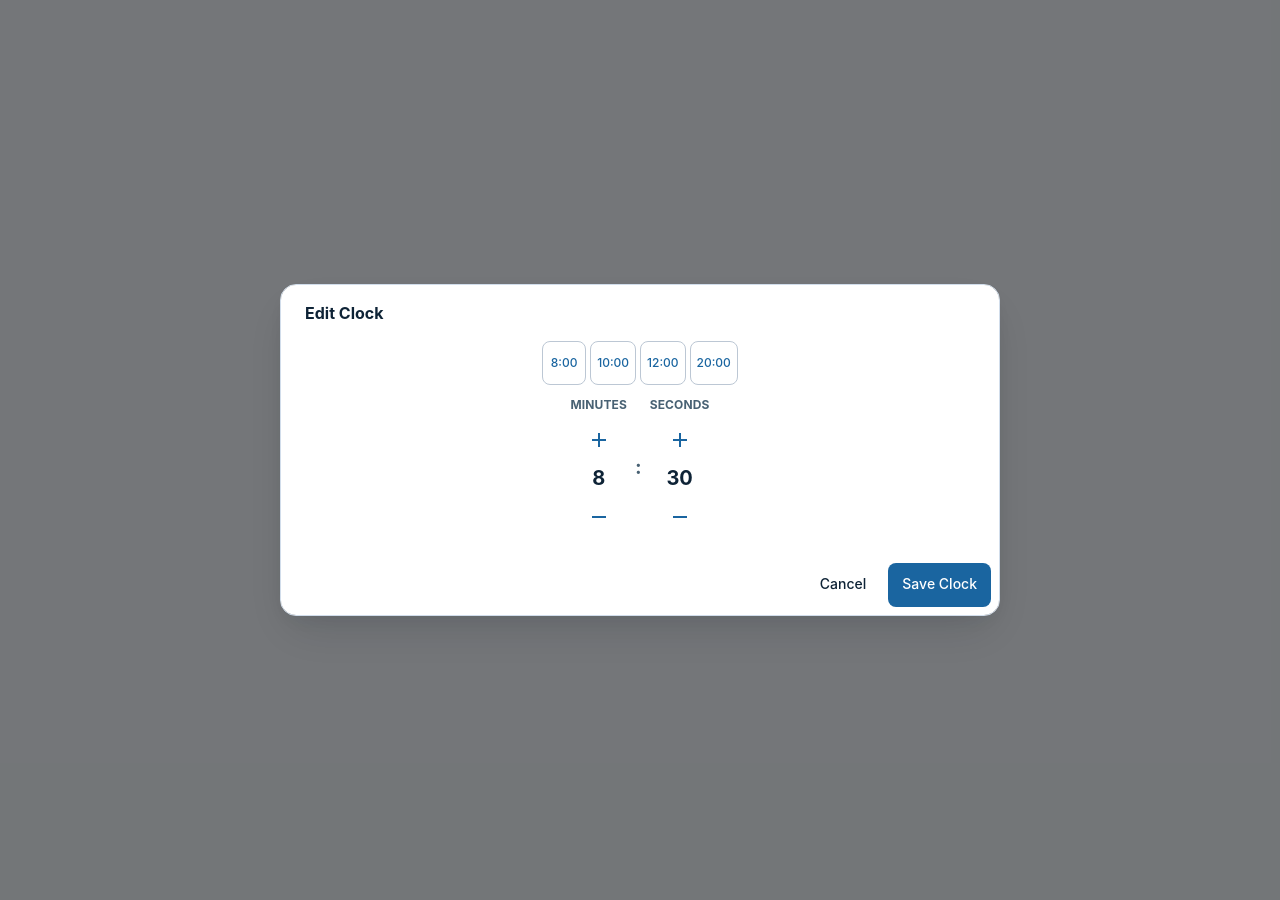
it: EditClockDialog › allows selecting preset minutes
The image size is (1280, 900).
Click the button "12:00" at (663, 363), box left=640, top=341, right=686, bottom=385
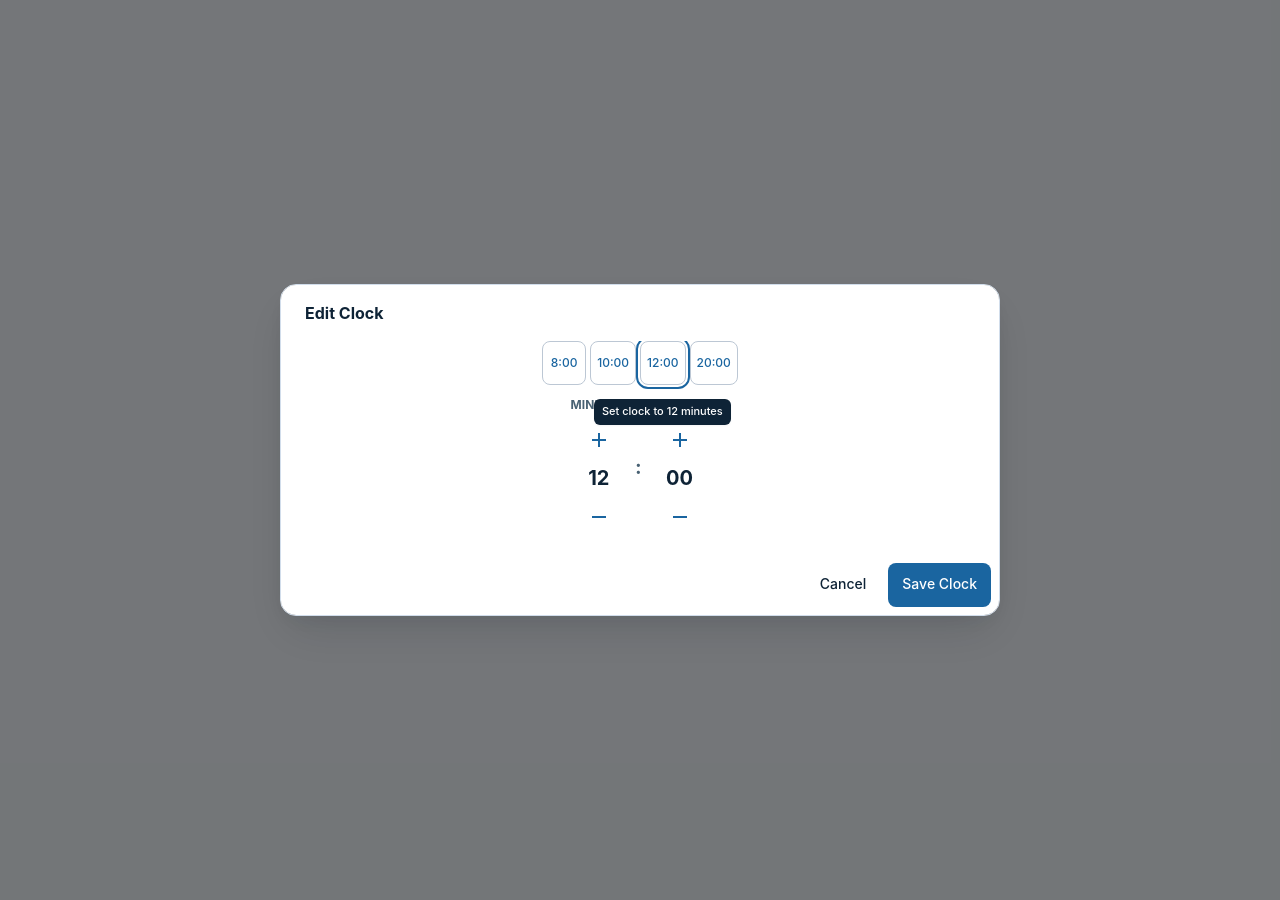
Expected: the heading "12" is shown, left=588, top=466, right=609, bottom=490
Expected: the heading "00" is shown, left=666, top=466, right=693, bottom=491
